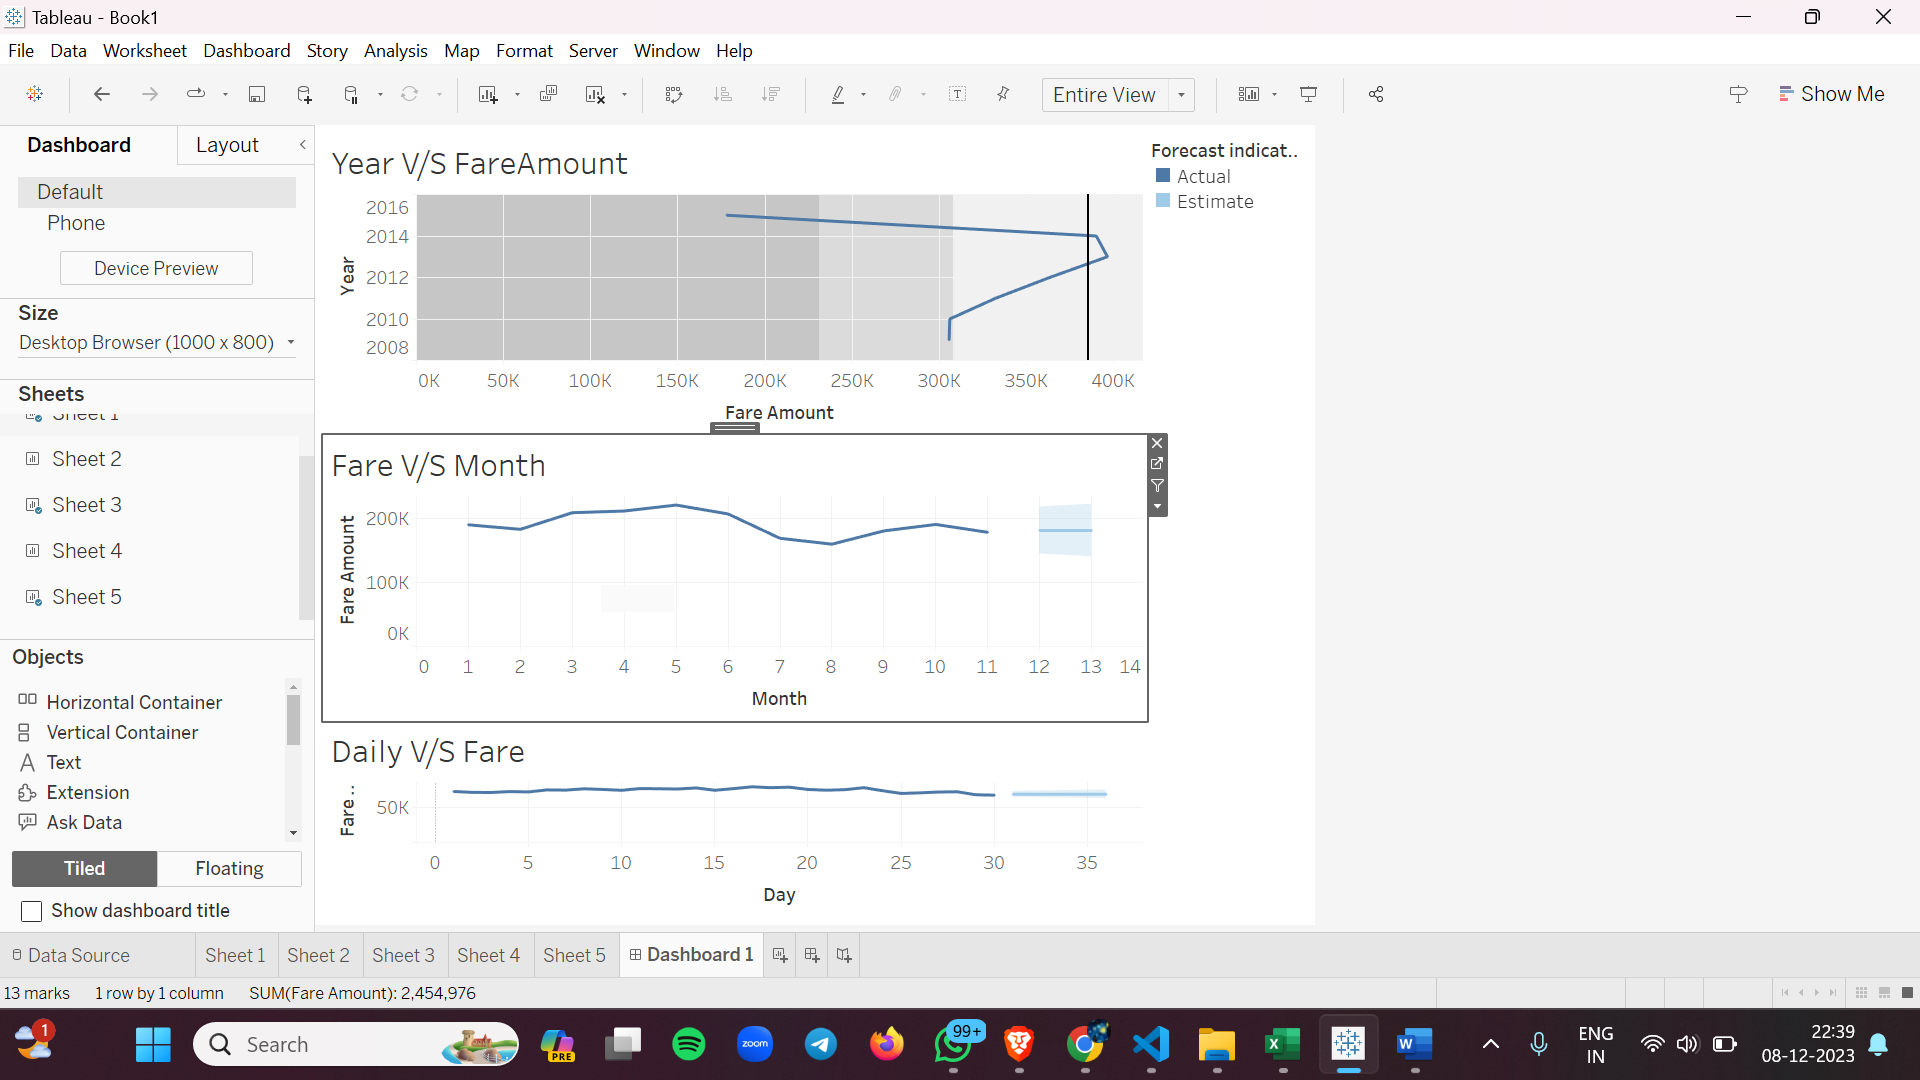

The dashboard page shown, as its layout file describes it:
{"tool":"tableau","page":{"name":"Dashboard 1","canvas":[1000,800],"ordinal":0},"visuals":[{"type":"worksheet","title":"Sheet 3","mark":"Automatic","rows":["year"],"cols":["fare_amount"],"box":[8,8,824,302]},{"type":"legend","title":"Sheet 1","param":"[federated.1nfg2np0udw69w1c24vz81fa492v].[none:Forecast Indicator:nk]","box":[832,8,160,84]},{"type":"worksheet","title":"Sheet 1","mark":"Automatic","rows":["fare_amount"],"cols":["month"],"box":[8,310,824,286]},{"type":"worksheet","title":"Sheet 5","mark":"Automatic","rows":["fare_amount"],"cols":["day"],"box":[8,596,824,196]}]}

Visuals, with their boxes on the page's 1000x800 design canvas (x1, y1, x2, y2). These are canvas units, not pixel positions in the 1920x1080 screenshot, which may show the page scaled, cropped or inside an application window:
"Sheet 3" worksheet: region(8, 8, 832, 310)
"Sheet 1" legend: region(832, 8, 992, 92)
"Sheet 1" worksheet: region(8, 310, 832, 596)
"Sheet 5" worksheet: region(8, 596, 832, 792)
